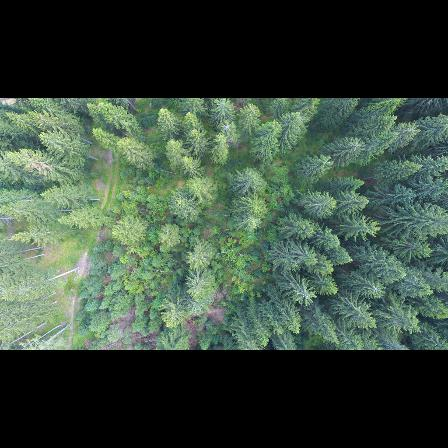Sick: (291, 287, 319, 307), (366, 282, 387, 300)
